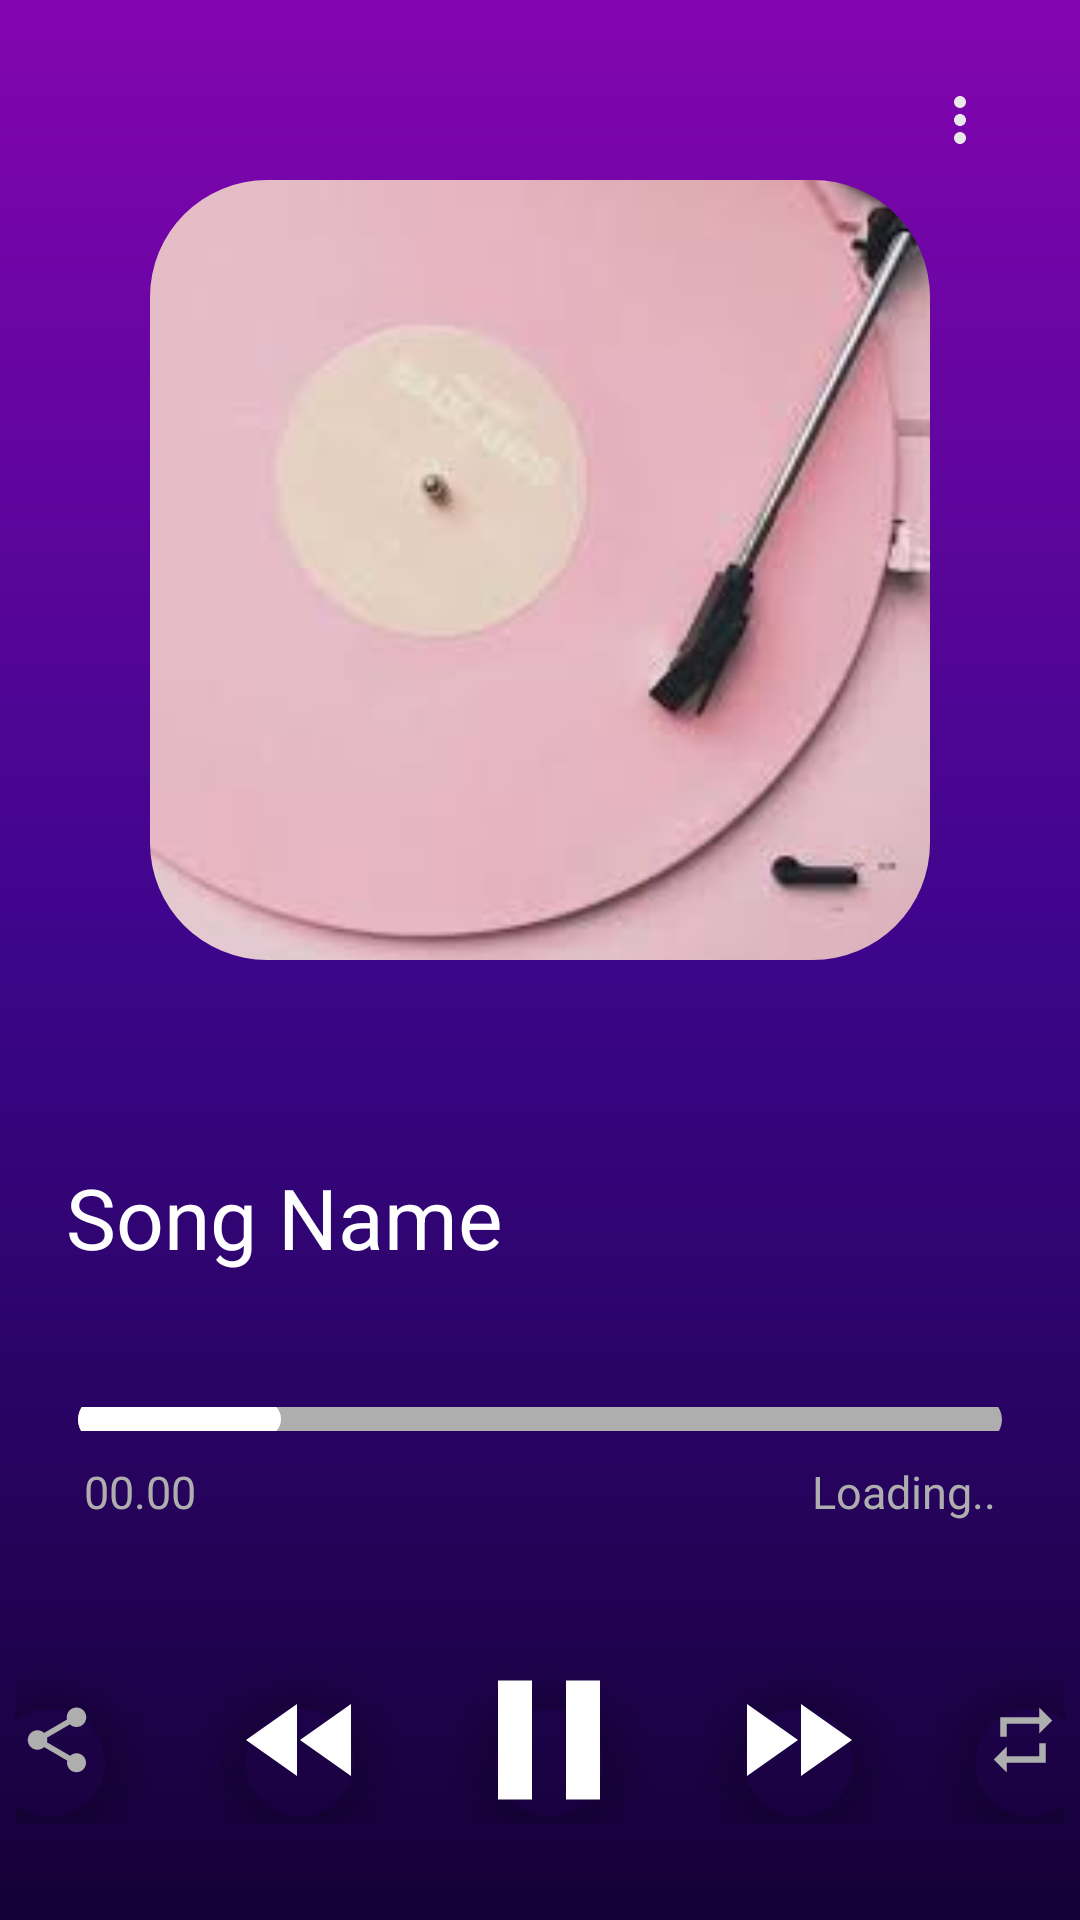

Named icons in this screenshot (1080x1920) and their centers, (x,y):
forward play: (795,1753)
pause: (549,1752)
rewind play: (303,1753)
